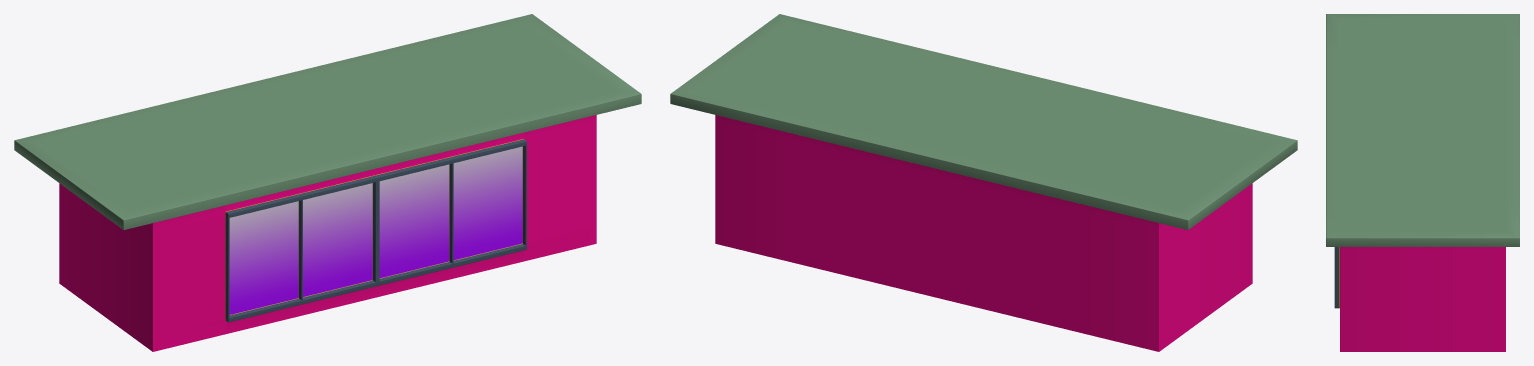
File: EdificioRosa.fbx
The picture shows the model from 3 angles, left to right: view 1: azimuth 30°, elevation 25°; view 2: azimuth 150°, elevation 25°; view 3: azimuth 270°, elevation 25°; orthographic projection. The views are drawn at different scales.
Visible parts, largest first — view 1: edificio4; view 2: edificio4; view 3: edificio4.
Boxes of the visible parts, x1,y1,x2,y2 form: edificio4: [14, 14, 641, 351]; edificio4: [670, 14, 1297, 351]; edificio4: [1326, 14, 1519, 351].
Bounding box in the file's own units: 1643 × 444 × 600.
1 material, 1 textured.
